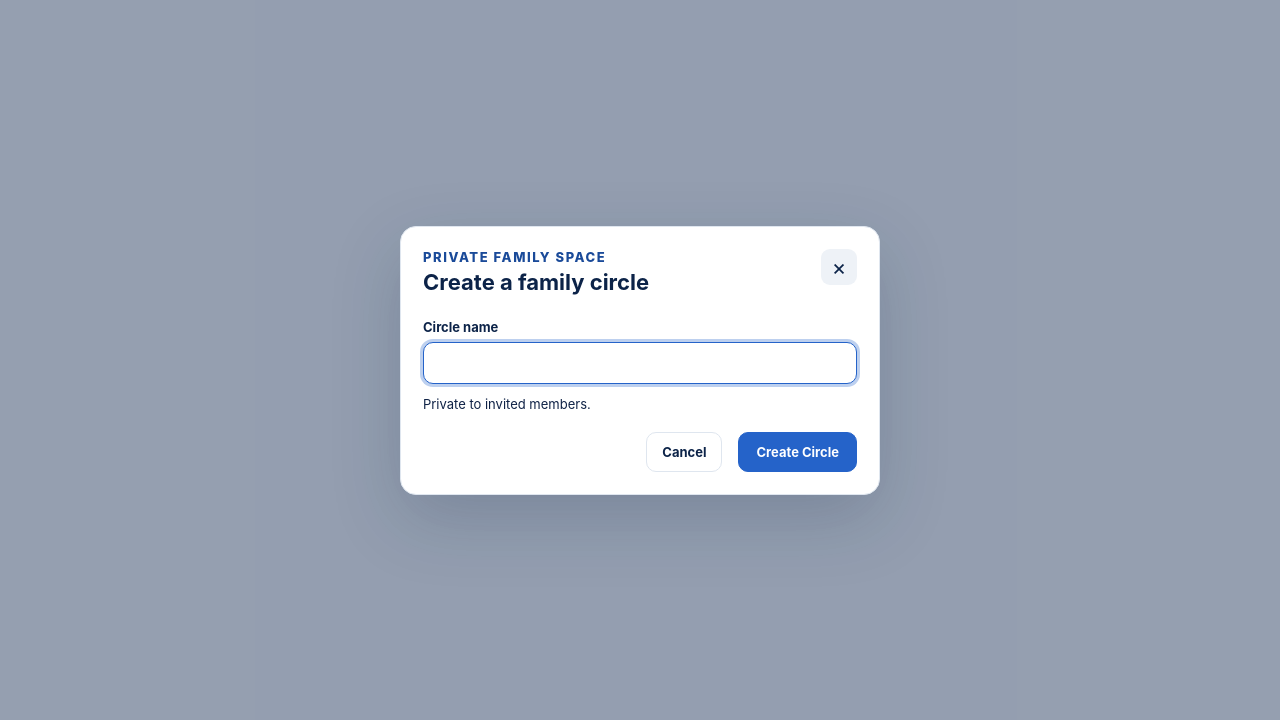
Test: CreateCircleDialog › maps known validation failures and generic failures safely without erasing input
Type "Kasule Family" into the field labelled "Circle name".
click(640, 362); type("Kasule Family")  # box [423, 342, 857, 384]
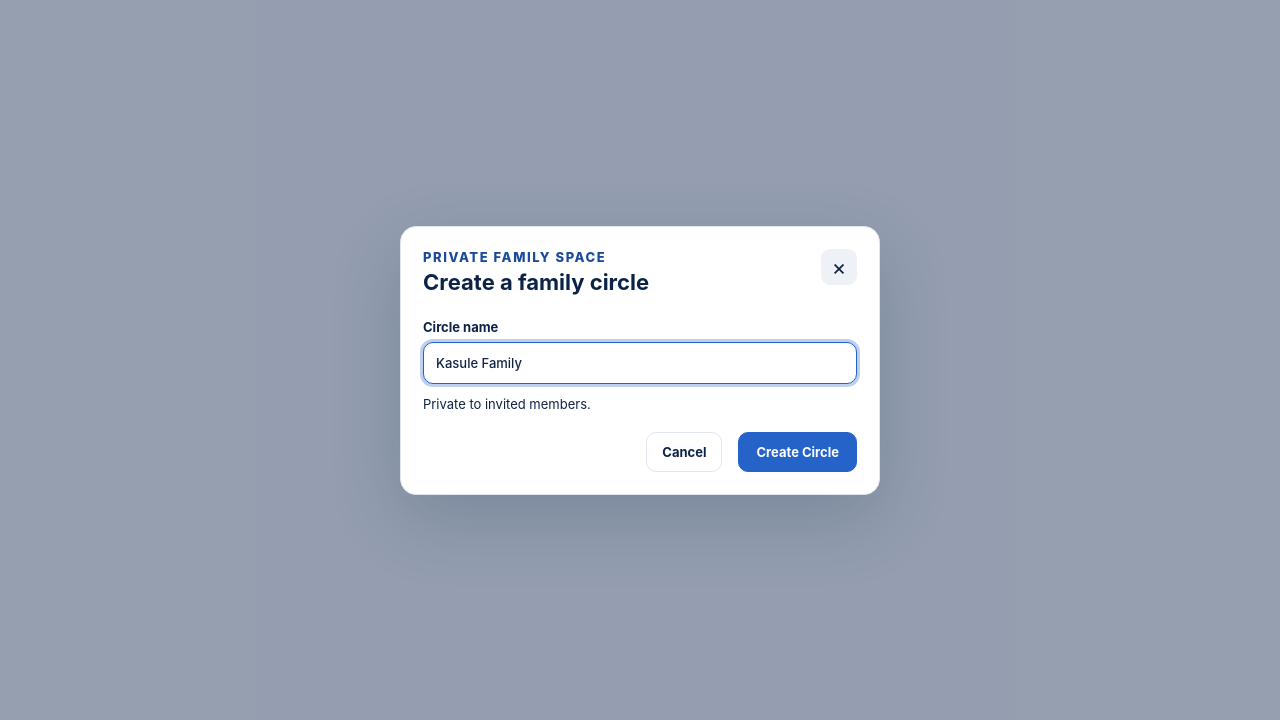
Click the button "Create Circle".
click(798, 452)  # box [738, 432, 857, 472]
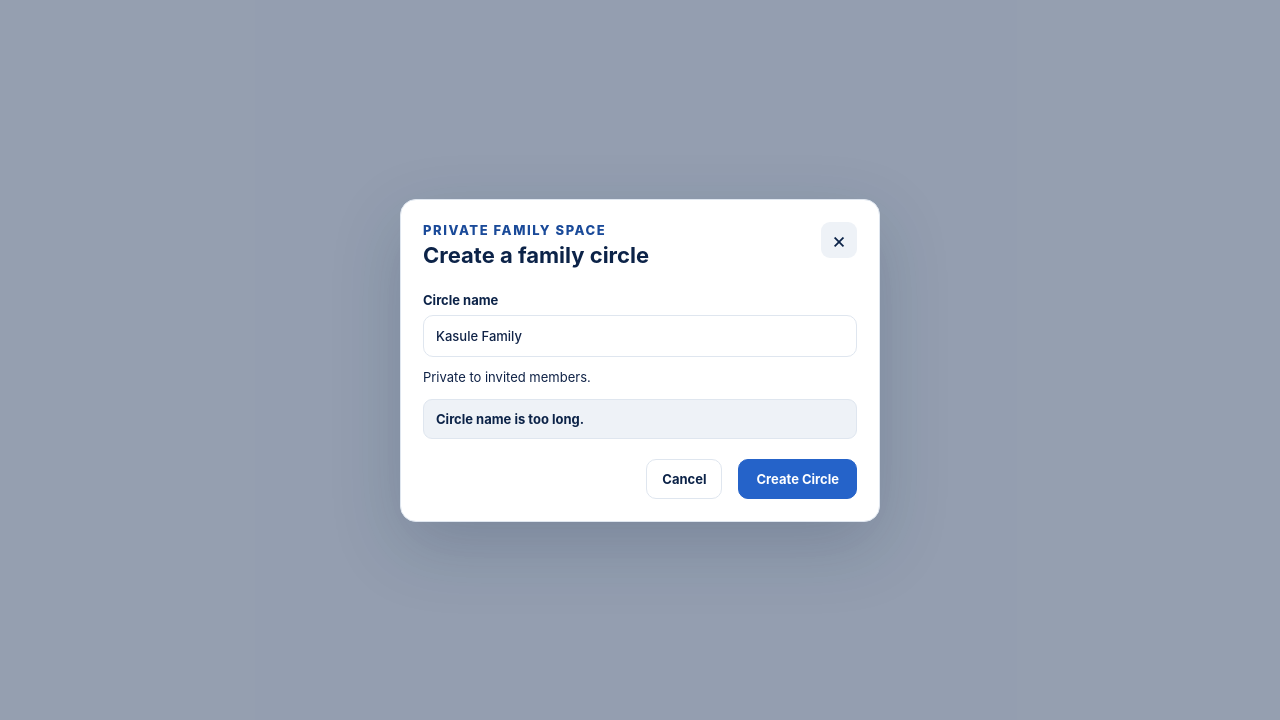
Expected: the text "Circle name is too long." is shown, [423, 398, 857, 438]
Click the button "Create Circle".
click(798, 478)  # box [738, 458, 857, 498]
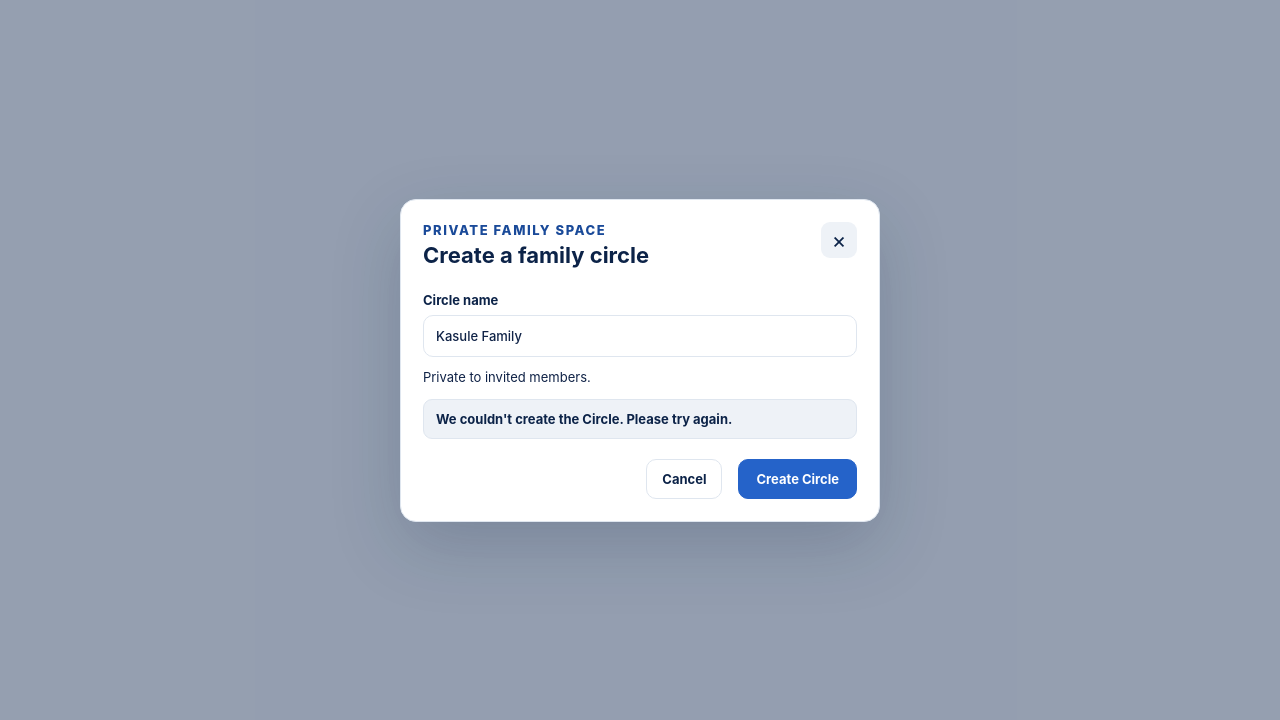
Expected: the text "We couldn't create the Circle. Please try again." is shown, [423, 398, 857, 438]
